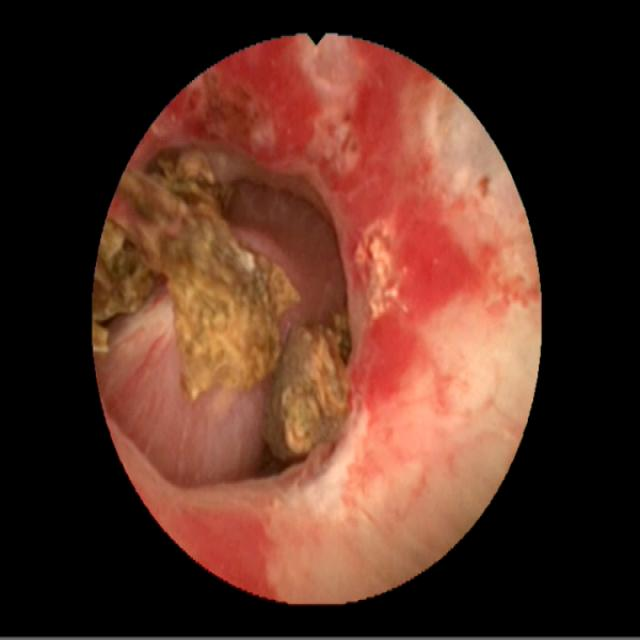stone: (97, 151, 296, 394), (266, 311, 348, 461)
